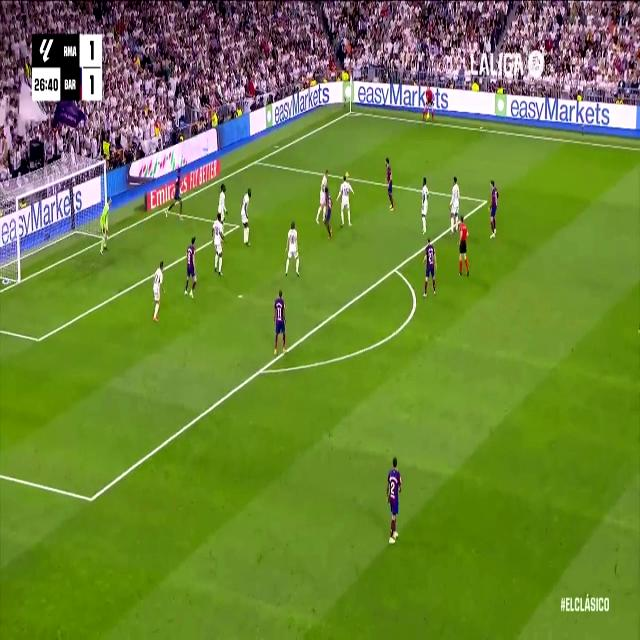bigarea_bottom_inner: (84, 482, 98, 515)
bigarea_top_inner: (481, 192, 489, 210)
bigarea_top_outter: (252, 154, 260, 167)
bottom_arc_area_intersection: (255, 358, 267, 382)
corner: (345, 105, 355, 117)
smallarea_bottom_inner: (34, 326, 44, 352)
smallarea_top_inner: (233, 218, 241, 232)
top_arc_area_intersection: (390, 257, 400, 279)
